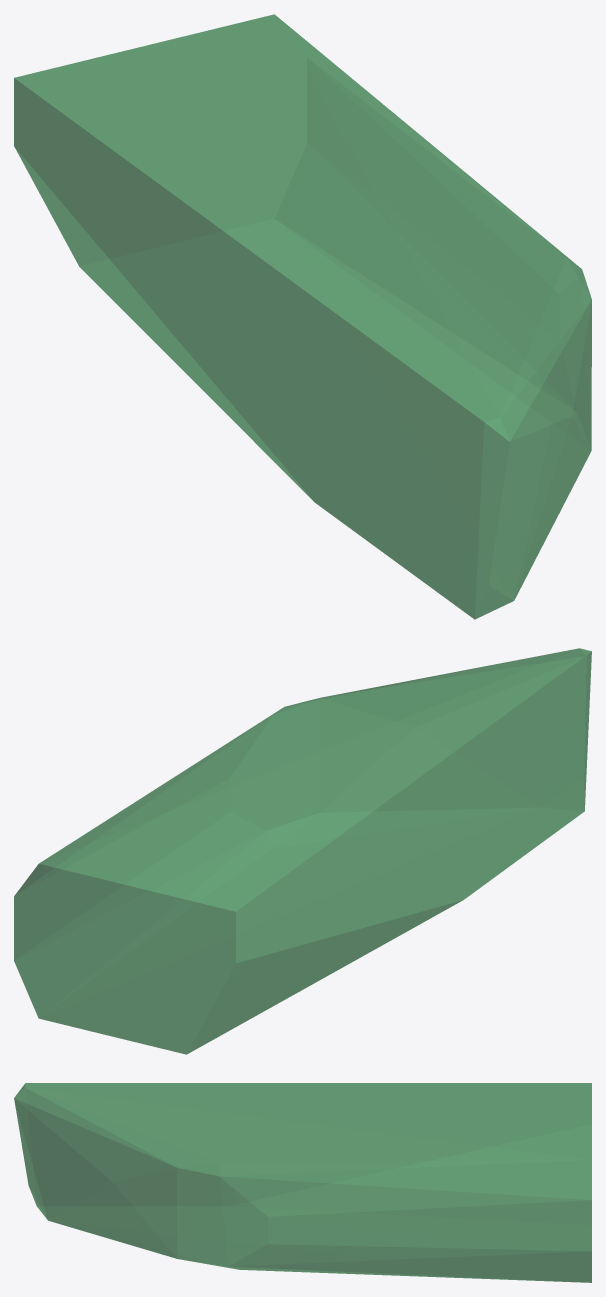
The picture shows the model from 3 angles, top to bottom: view 1: azimuth 30°, elevation 25°; view 2: azimuth 150°, elevation 25°; view 3: azimuth 270°, elevation 25°; orthographic projection. The views are drawn at different scales.
Parts seen in each view (by area): view 1: Shape_IndexedFaceSet.008_Shape_IndexedFaceSet.11839; view 2: Shape_IndexedFaceSet.008_Shape_IndexedFaceSet.11839; view 3: Shape_IndexedFaceSet.008_Shape_IndexedFaceSet.11839.
Boxes of the visible parts, <box> form: Shape_IndexedFaceSet.008_Shape_IndexedFaceSet.11839: <box>14,14,591,619</box>; Shape_IndexedFaceSet.008_Shape_IndexedFaceSet.11839: <box>14,648,591,1054</box>; Shape_IndexedFaceSet.008_Shape_IndexedFaceSet.11839: <box>14,1083,591,1282</box>.
Size of the model in its own units: 0.1907 by 0.1272 by 0.5406.
